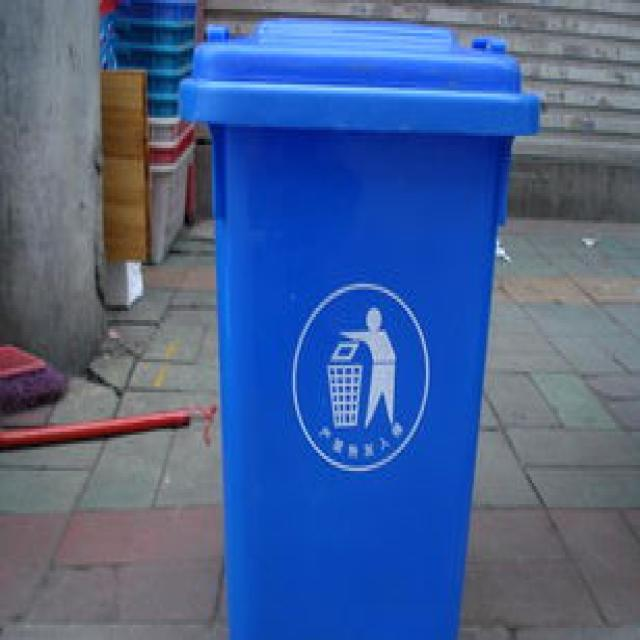garbage_bin: (175, 18, 538, 637)
